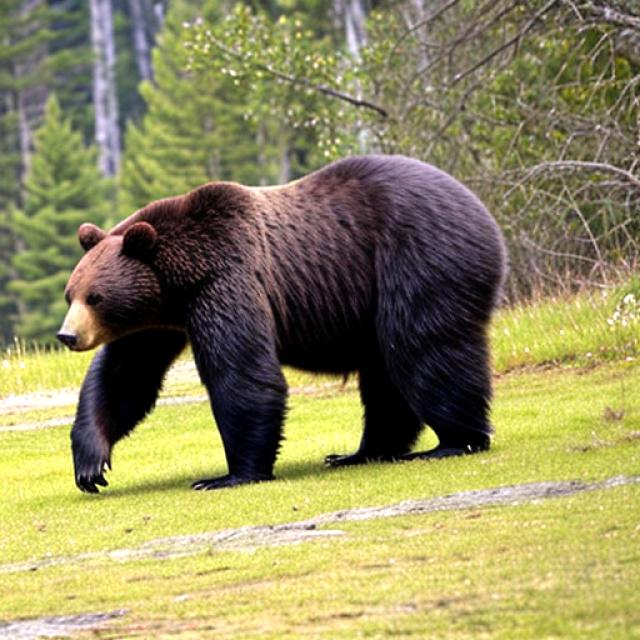bear: (60, 216, 192, 356)
